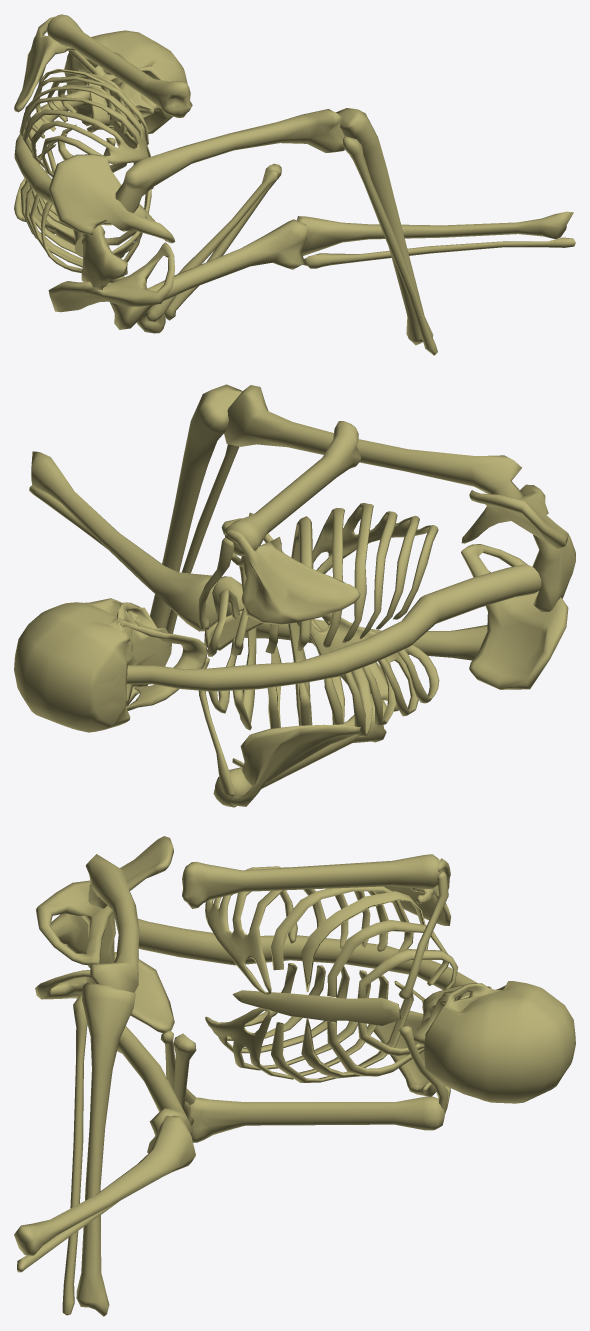
File: calavera2.fbx
The picture shows the model from 3 angles, top to bottom: view 1: azimuth 30°, elevation 25°; view 2: azimuth 150°, elevation 25°; view 3: azimuth 270°, elevation 25°; orthographic projection. The views are drawn at different scales.
Parts seen in each view (by area): view 1: calavera1; view 2: calavera1; view 3: calavera1.
Part boxes in pixels (left/top/right/bottom): calavera1: left=14, top=14, right=575, bottom=355; calavera1: left=14, top=384, right=575, bottom=807; calavera1: left=14, top=836, right=575, bottom=1316.
Bounding box in the file's own units: 51.54 × 29.66 × 45.06.
